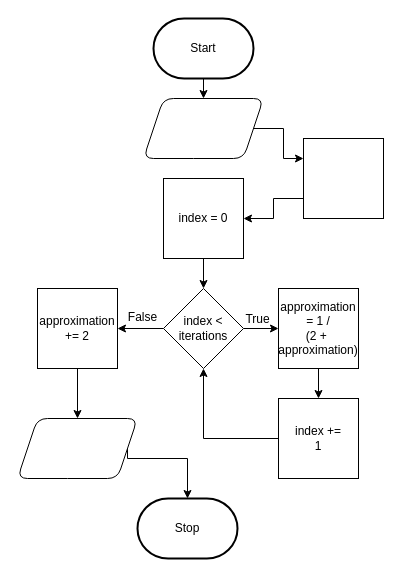
Image size: 401x576. Some labels were removed from this diagram. Here are the shapes that lost their labels. From the top down, the box of each, then its label:
(142, 98, 264, 158): user enters: iterations
(302, 138, 384, 218): approximation = 0.5
(16, 418, 138, 478): display: approximation
